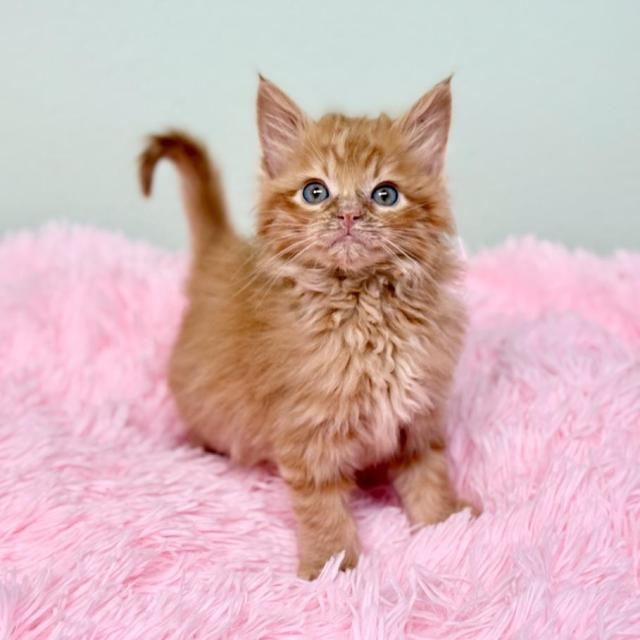maine_coon_cat: (233, 63, 476, 310)
